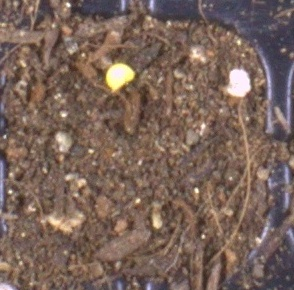chilli seed: (105, 63, 135, 91)
